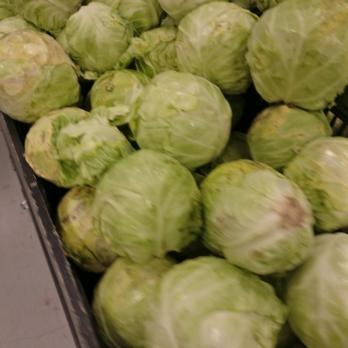Cabbage: (76, 1, 348, 348), (0, 0, 113, 163)
